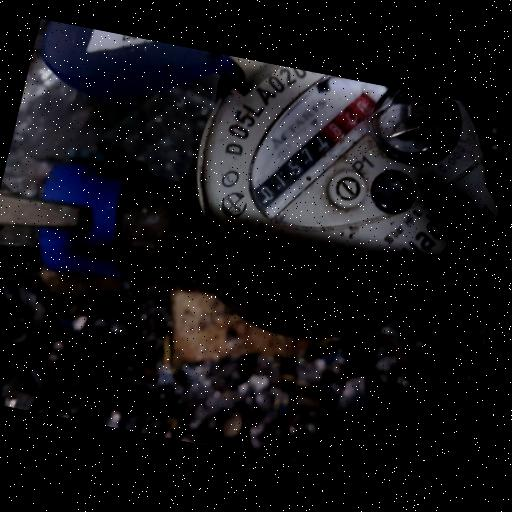0: (345, 89, 383, 125), (251, 179, 283, 207)
1: (265, 168, 295, 193)
4: (332, 104, 364, 135), (307, 131, 337, 158)
5: (279, 155, 309, 182)
7: (293, 142, 324, 169)
8: (321, 117, 351, 144)
border_water_meter_number: (245, 71, 387, 228)
